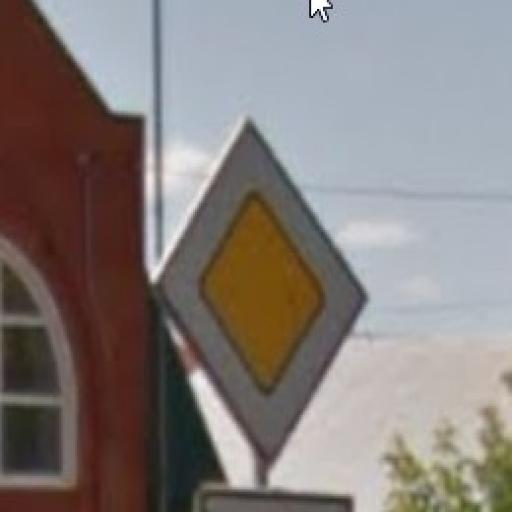traffic_sign: (159, 116, 369, 466)
